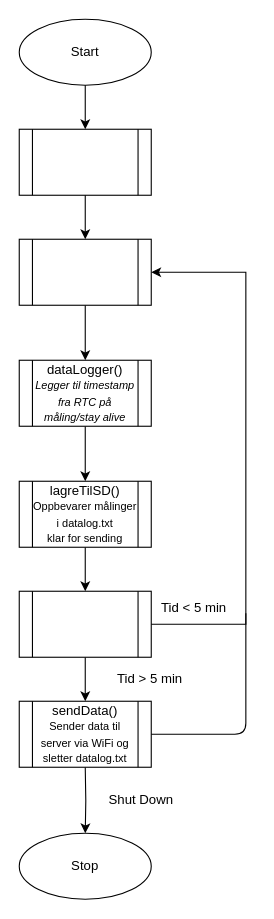
Some shapes in this 274 by 919 pixel diagram are drawn without their labels. The shapes that lost their labels are listed below. From the top down, each one's centre as x and y in pixels, then its label:
At point 84,161: "setup() gjør alle nødvendige oppsett for å starte Arduino".
At point 84,271: "sleepMode() Arduino går i sleep mode for å spare strøm".
At point 84,623: "timer() sjekker tid siden oppstart/sist sending".
